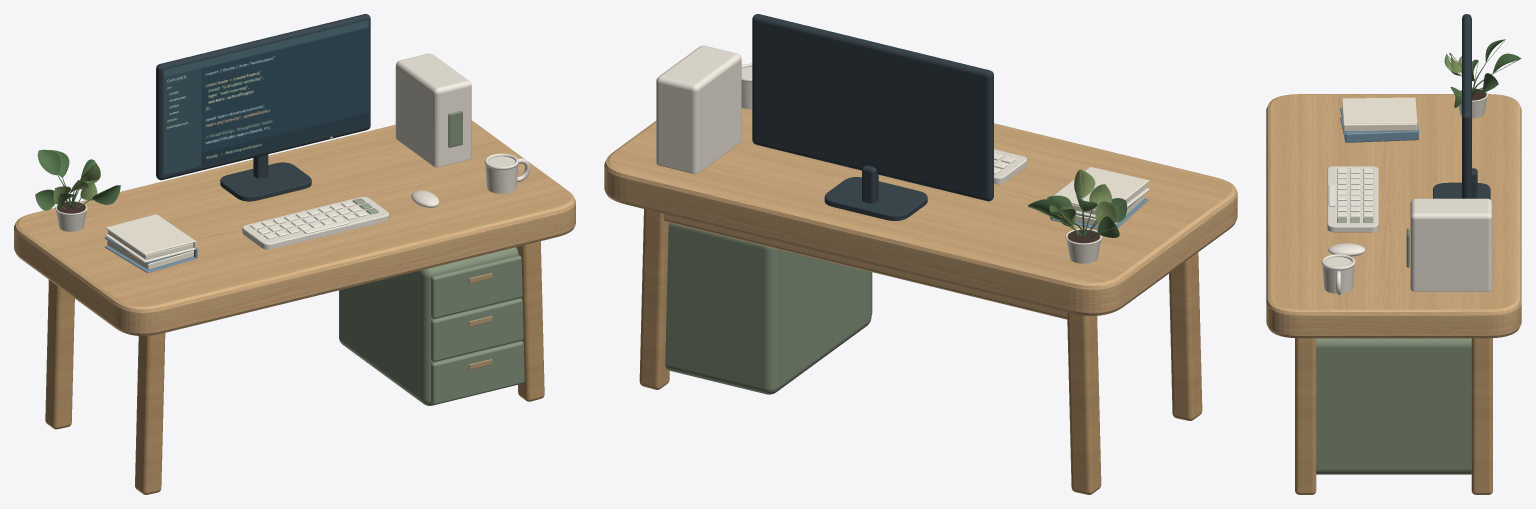
The model's file is desk.glb.
The picture shows the model from 3 angles, left to right: view 1: azimuth 30°, elevation 25°; view 2: azimuth 150°, elevation 25°; view 3: azimuth 270°, elevation 25°; orthographic projection. The views are drawn at different scales.
Visible parts, largest first — view 1: Desk_oak (×2), Desk_sage, Desk_screen-code, Desk_cream, Desk_charcoal, Desk_paper, Desk_white, Desk_leaf, Desk_leafLight; view 2: Desk_oak (×2), Desk_charcoal, Desk_sage, Desk_cream, Desk_paper, Desk_leaf, Desk_leafLight; view 3: Desk_oak (×2), Desk_sage, Desk_cream, Desk_charcoal, Desk_paper, Desk_white, Desk_leaf, Desk_blue, Desk_leafLight.
Part boxes in pixels (x1,y1,x2,y2): Desk_oak (×2): (14, 120, 575, 494); Desk_sage: (339, 110, 524, 405); Desk_screen-code: (163, 20, 368, 175); Desk_cream: (55, 53, 530, 249); Desk_charcoal: (156, 14, 370, 201); Desk_paper: (105, 214, 196, 269); Desk_white: (250, 201, 367, 239); Desk_leaf: (35, 149, 120, 210); Desk_leafLight: (35, 150, 120, 203); Desk_oak (×2): (604, 108, 1237, 494); Desk_charcoal: (752, 14, 993, 220); Desk_sage: (665, 222, 872, 394); Desk_cream: (656, 45, 1102, 263); Desk_paper: (1053, 167, 1149, 226); Desk_leaf: (1028, 193, 1127, 238); Desk_leafLight: (1027, 169, 1126, 233); Desk_oak (×2): (1266, 94, 1521, 494); Desk_sage: (1316, 228, 1471, 474); Desk_cream: (1321, 87, 1492, 295); Desk_charcoal: (1433, 14, 1490, 199); Desk_paper: (1341, 97, 1417, 131); Desk_white: (1328, 168, 1373, 217); Desk_leaf: (1444, 39, 1520, 107); Desk_blue: (1340, 107, 1418, 142); Desk_leafLight: (1446, 39, 1521, 96).
Size of the model in its own units: 2.52 by 1.82 by 1.24.
Materials: 15 (3 with a texture image).
